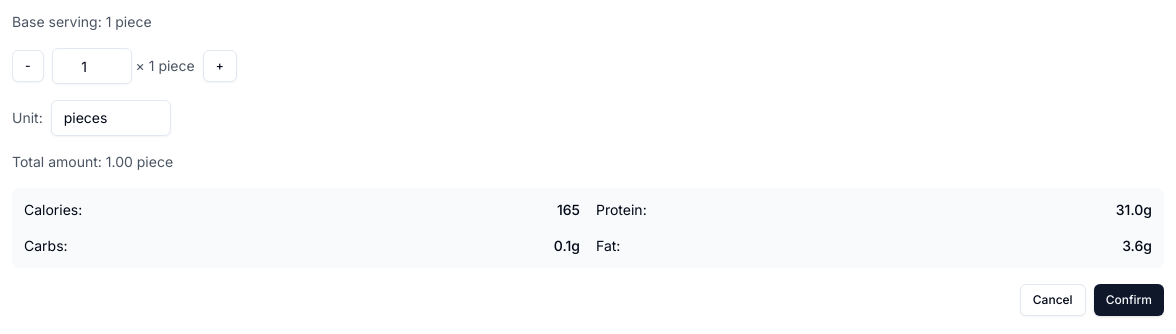
Test: ServingSelector Component › calculates nutrition for different servings
The image size is (1176, 334).
Expected: the text "165" is shown, left=557, top=200, right=580, bottom=220
Expected: the text with test id "calories-incremented" reads "165", left=557, top=201, right=580, bottom=218
# Find increment button and click
Click the button with test id "increment-serving" at (220, 66), box left=203, top=50, right=237, bottom=82
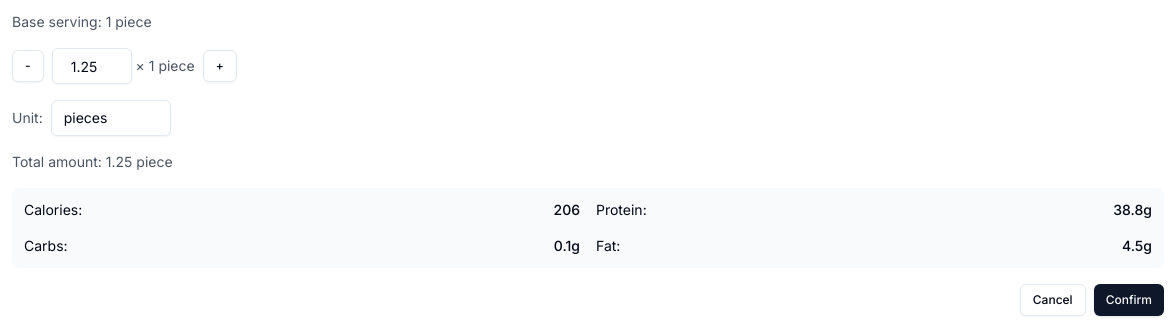
Expected: the text with test id "calories-incremented" reads "206", left=554, top=201, right=580, bottom=218
